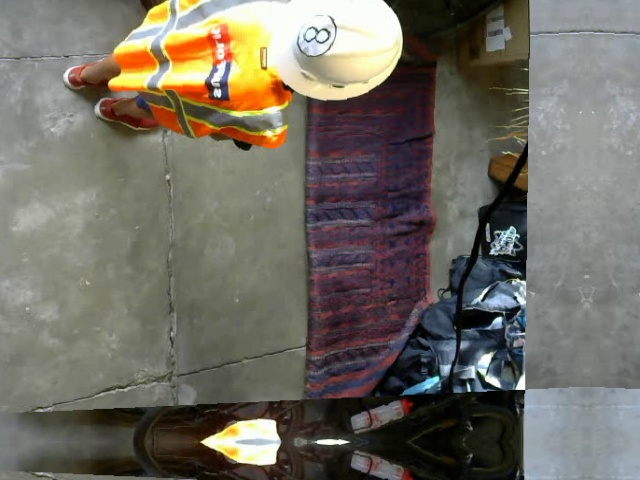eight: (296, 11, 336, 58)
